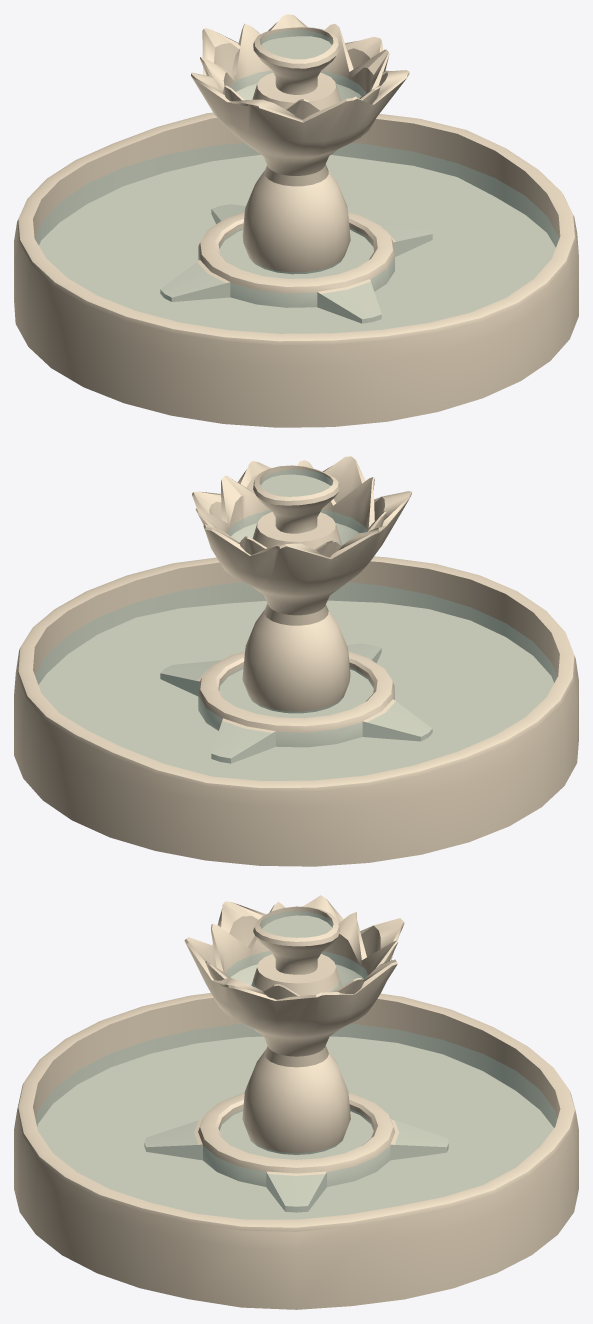
Rendered from Fontene.FBX.
The picture shows the model from 3 angles, top to bottom: view 1: azimuth 30°, elevation 25°; view 2: azimuth 150°, elevation 25°; view 3: azimuth 270°, elevation 25°; orthographic projection.
Parts seen in each view (by area): view 1: Fountain; view 2: Fountain; view 3: Fountain.
Boxes of the visible parts, <box> form: Fountain: <box>14,14,578,427</box>; Fountain: <box>14,456,578,866</box>; Fountain: <box>14,895,578,1309</box>.
Size of the model in its own units: 525 by 272 by 521.
